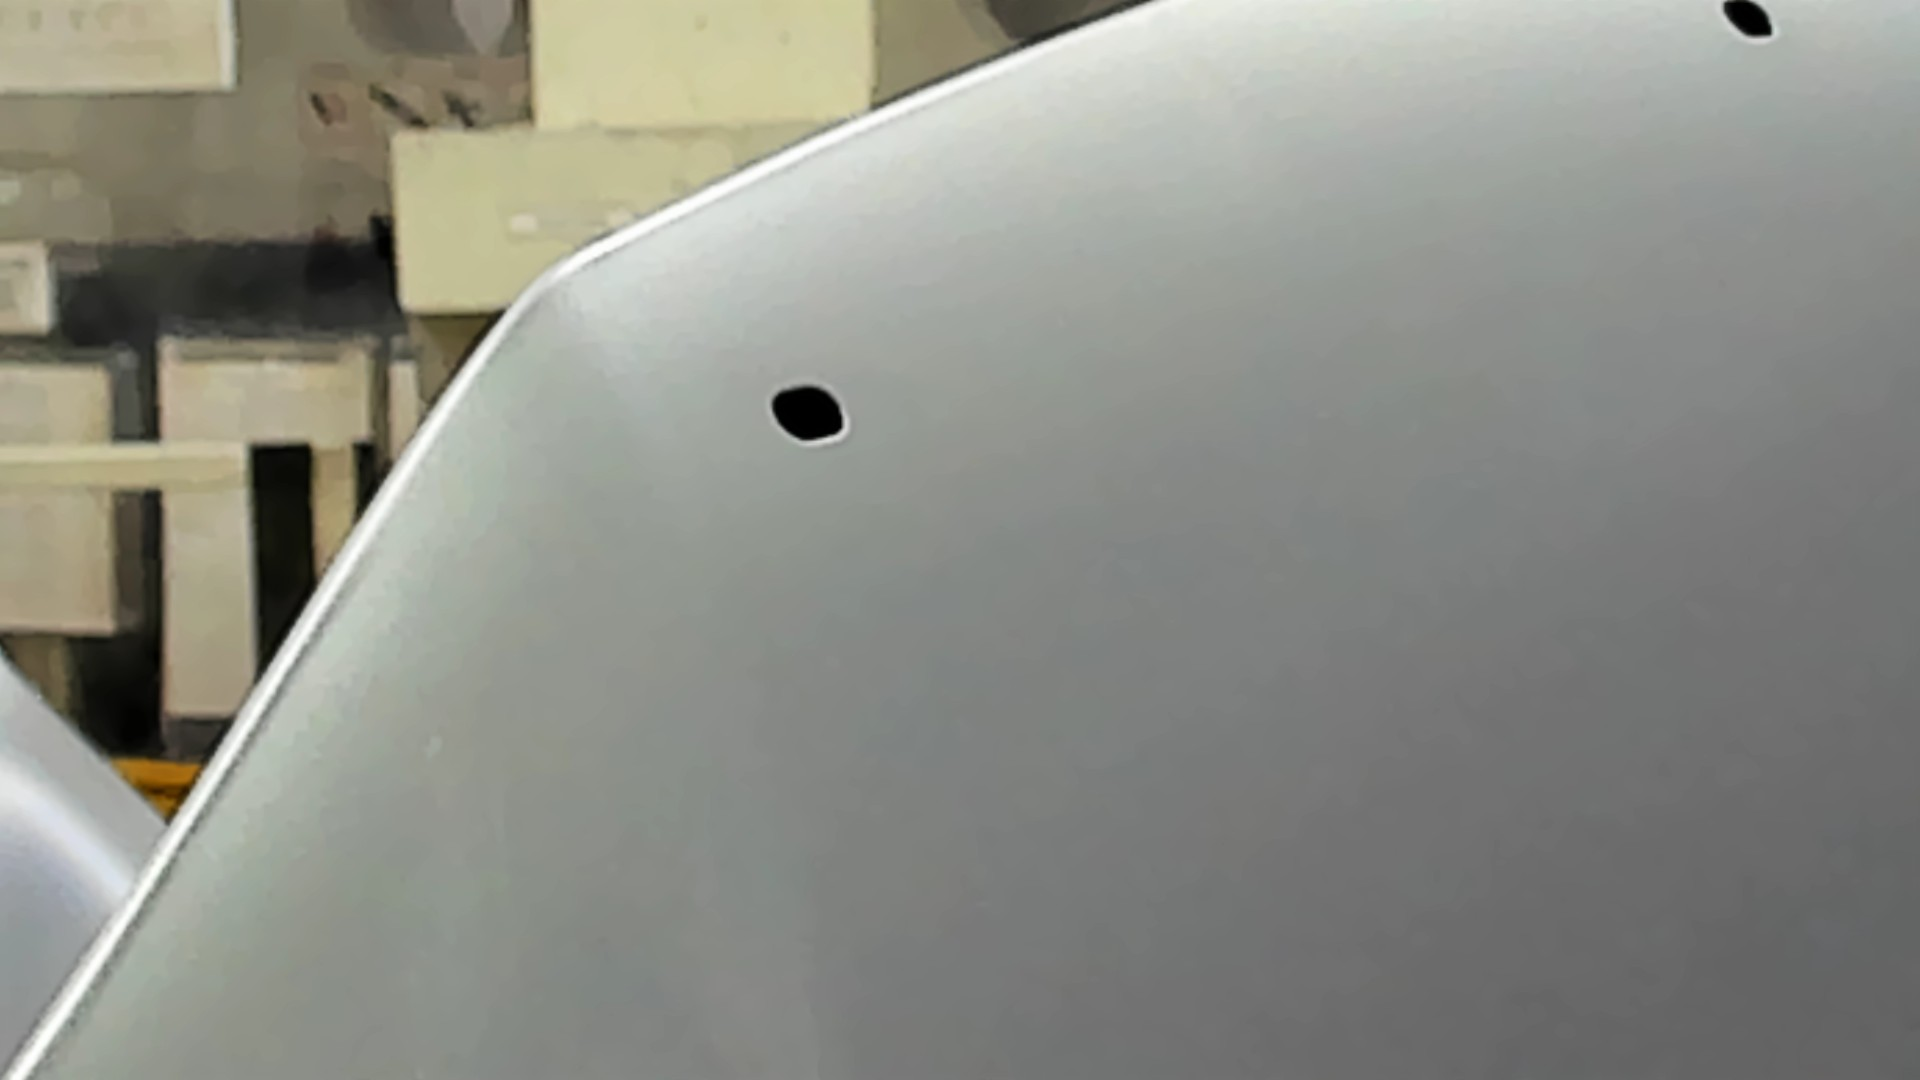amorfo: (766, 378, 855, 448), (1716, 1, 1779, 45)
